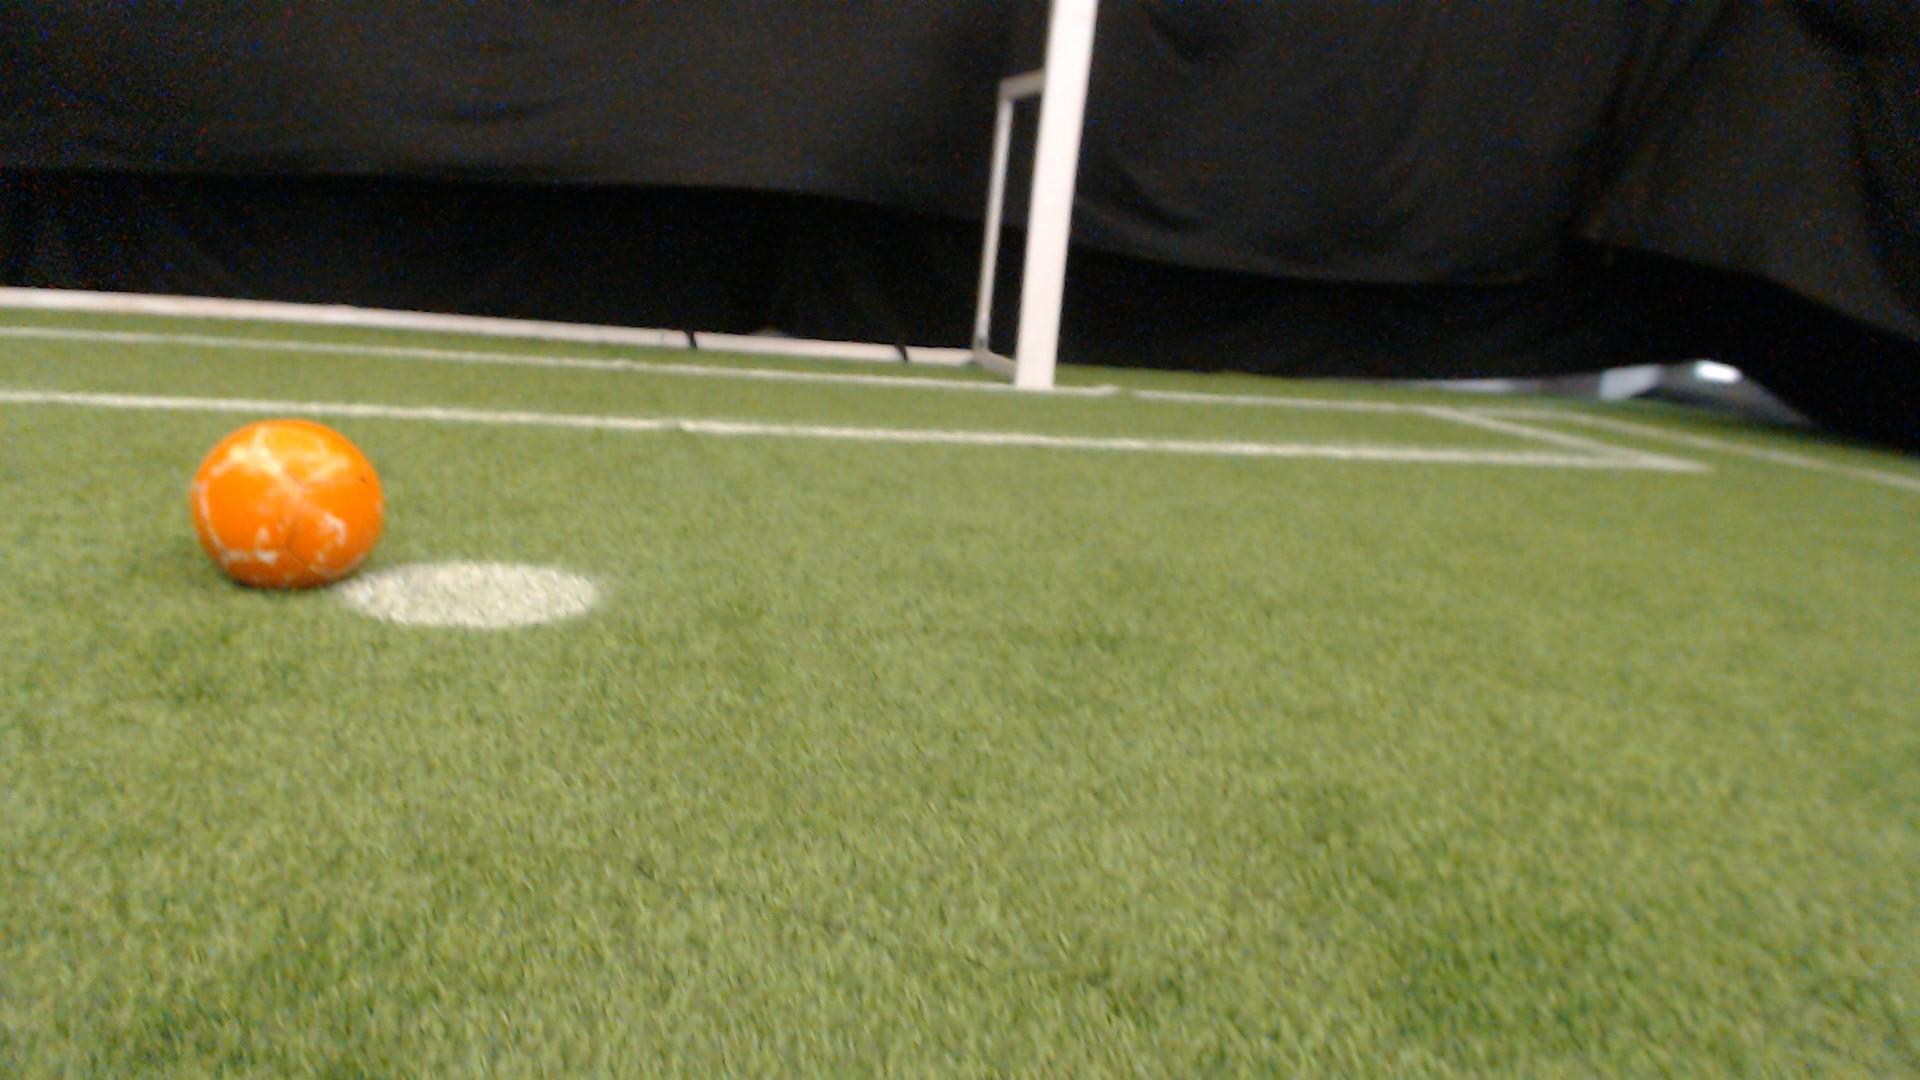bola: (171, 413, 401, 588)
